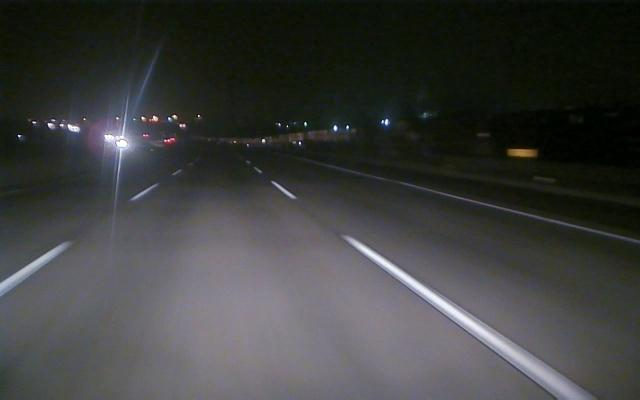lane: (269, 181, 597, 398), (1, 181, 161, 296), (395, 180, 640, 245)
